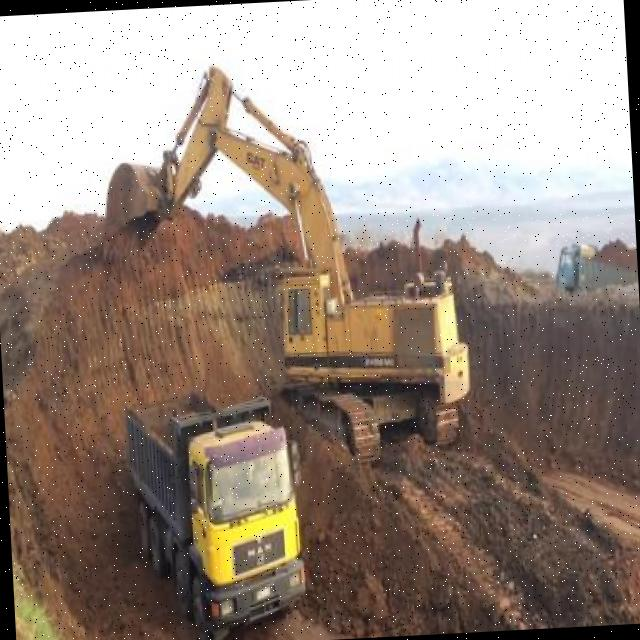Dump Truck: (121, 383, 313, 640), (546, 225, 638, 294)
Excavator: (94, 49, 482, 466)
